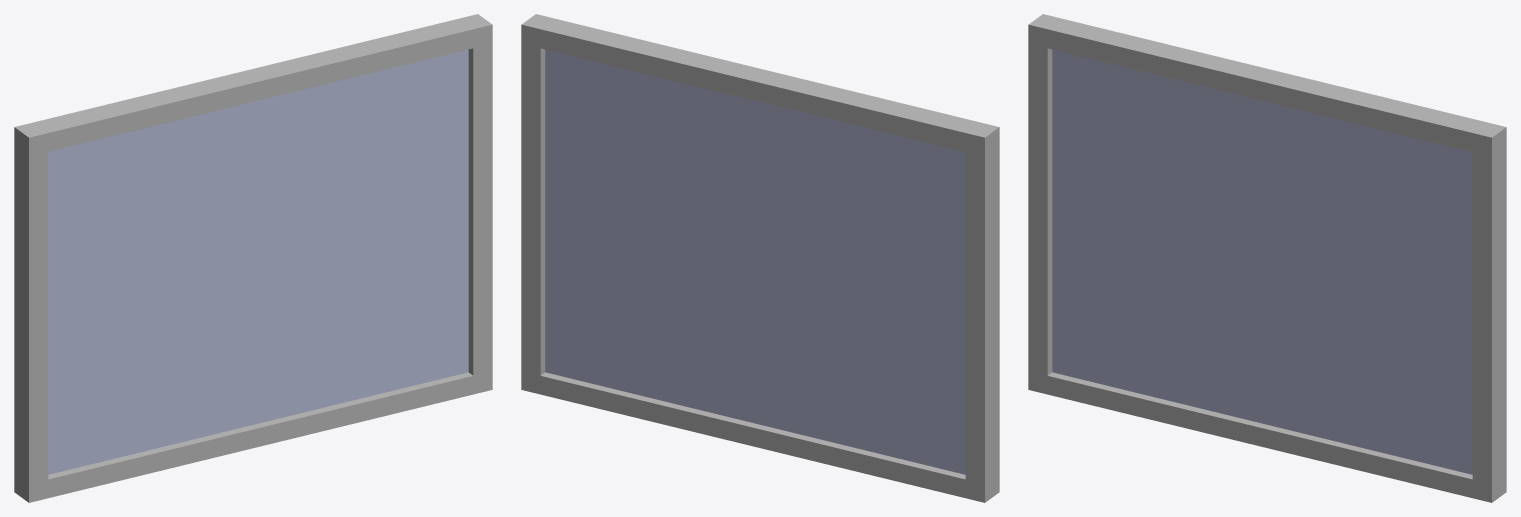
The model's file is Window_03_B_SM.FBX.
3 renders of one model, left to right at view 1: azimuth 30°, elevation 25°; view 2: azimuth 150°, elevation 25°; view 3: azimuth 330°, elevation 25°, orthographic.
Visible parts, largest first — view 1: Window_03_B_SM; view 2: Window_03_B_SM; view 3: Window_03_B_SM.
Part boxes in pixels (x1=…): Window_03_B_SM: x1=14, y1=14, x2=492, y2=502; Window_03_B_SM: x1=521, y1=14, x2=999, y2=502; Window_03_B_SM: x1=1028, y1=14, x2=1506, y2=502.
Bounding box in the file's own units: 168 × 9.13 × 127.
